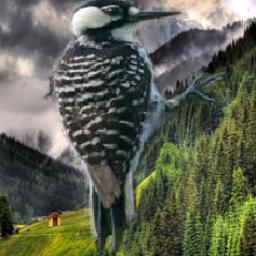Woodpecker: (43, 0, 233, 253)
